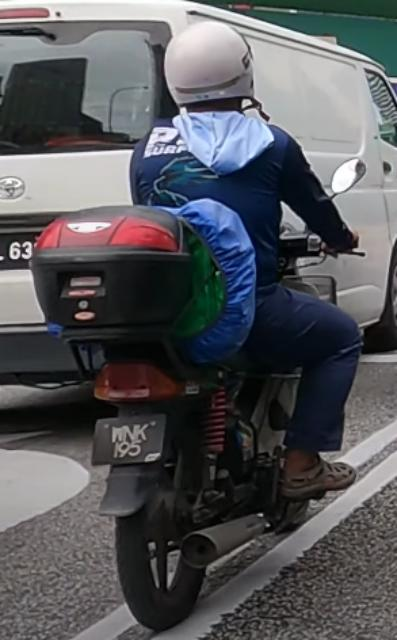License_Plate: (91, 413, 168, 467)
motorcycle: (30, 154, 370, 633)
